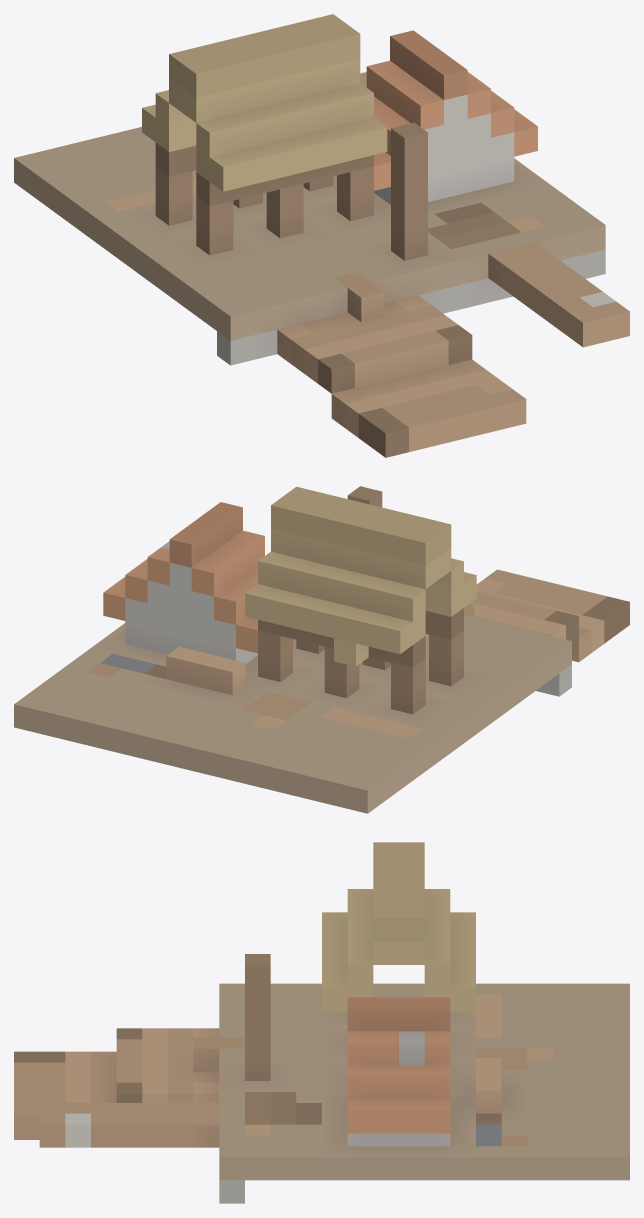
File: shipyard.lite.glb
3 views of the same model, one above another, from view 1: azimuth 30°, elevation 25°; view 2: azimuth 150°, elevation 25°; view 3: azimuth 270°, elevation 25° (orthographic). The views are drawn at different scales.
Visible parts, largest first — view 1: shipyard; view 2: shipyard; view 3: shipyard.
Boxes of the visible parts, left/top/right/bottom form: shipyard: left=14, top=14, right=629, bottom=457; shipyard: left=14, top=486, right=629, bottom=813; shipyard: left=14, top=842, right=629, bottom=1203.
Bounding box in the file's own units: 8 × 5 × 12.
